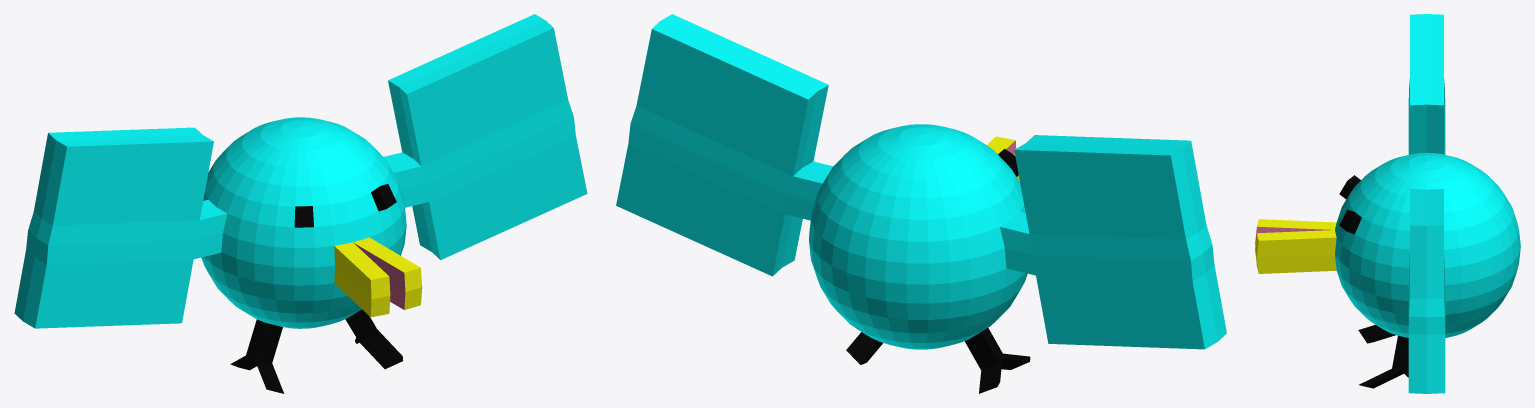
The model's file is bird.glb.
3 views of the same model, side by side, from view 1: azimuth 30°, elevation 25°; view 2: azimuth 150°, elevation 25°; view 3: azimuth 270°, elevation 25° (orthographic). The views are drawn at different scales.
Visible parts, largest first — view 1: Sphere; view 2: Sphere; view 3: Sphere.
Part boxes in pixels (x1,y1,x2,y2): Sphere: [14, 14, 587, 393]; Sphere: [616, 14, 1226, 393]; Sphere: [1255, 14, 1520, 393].
Size of the model in its own units: 18.86 by 8.97 by 8.81.
1 material, 1 textured.
